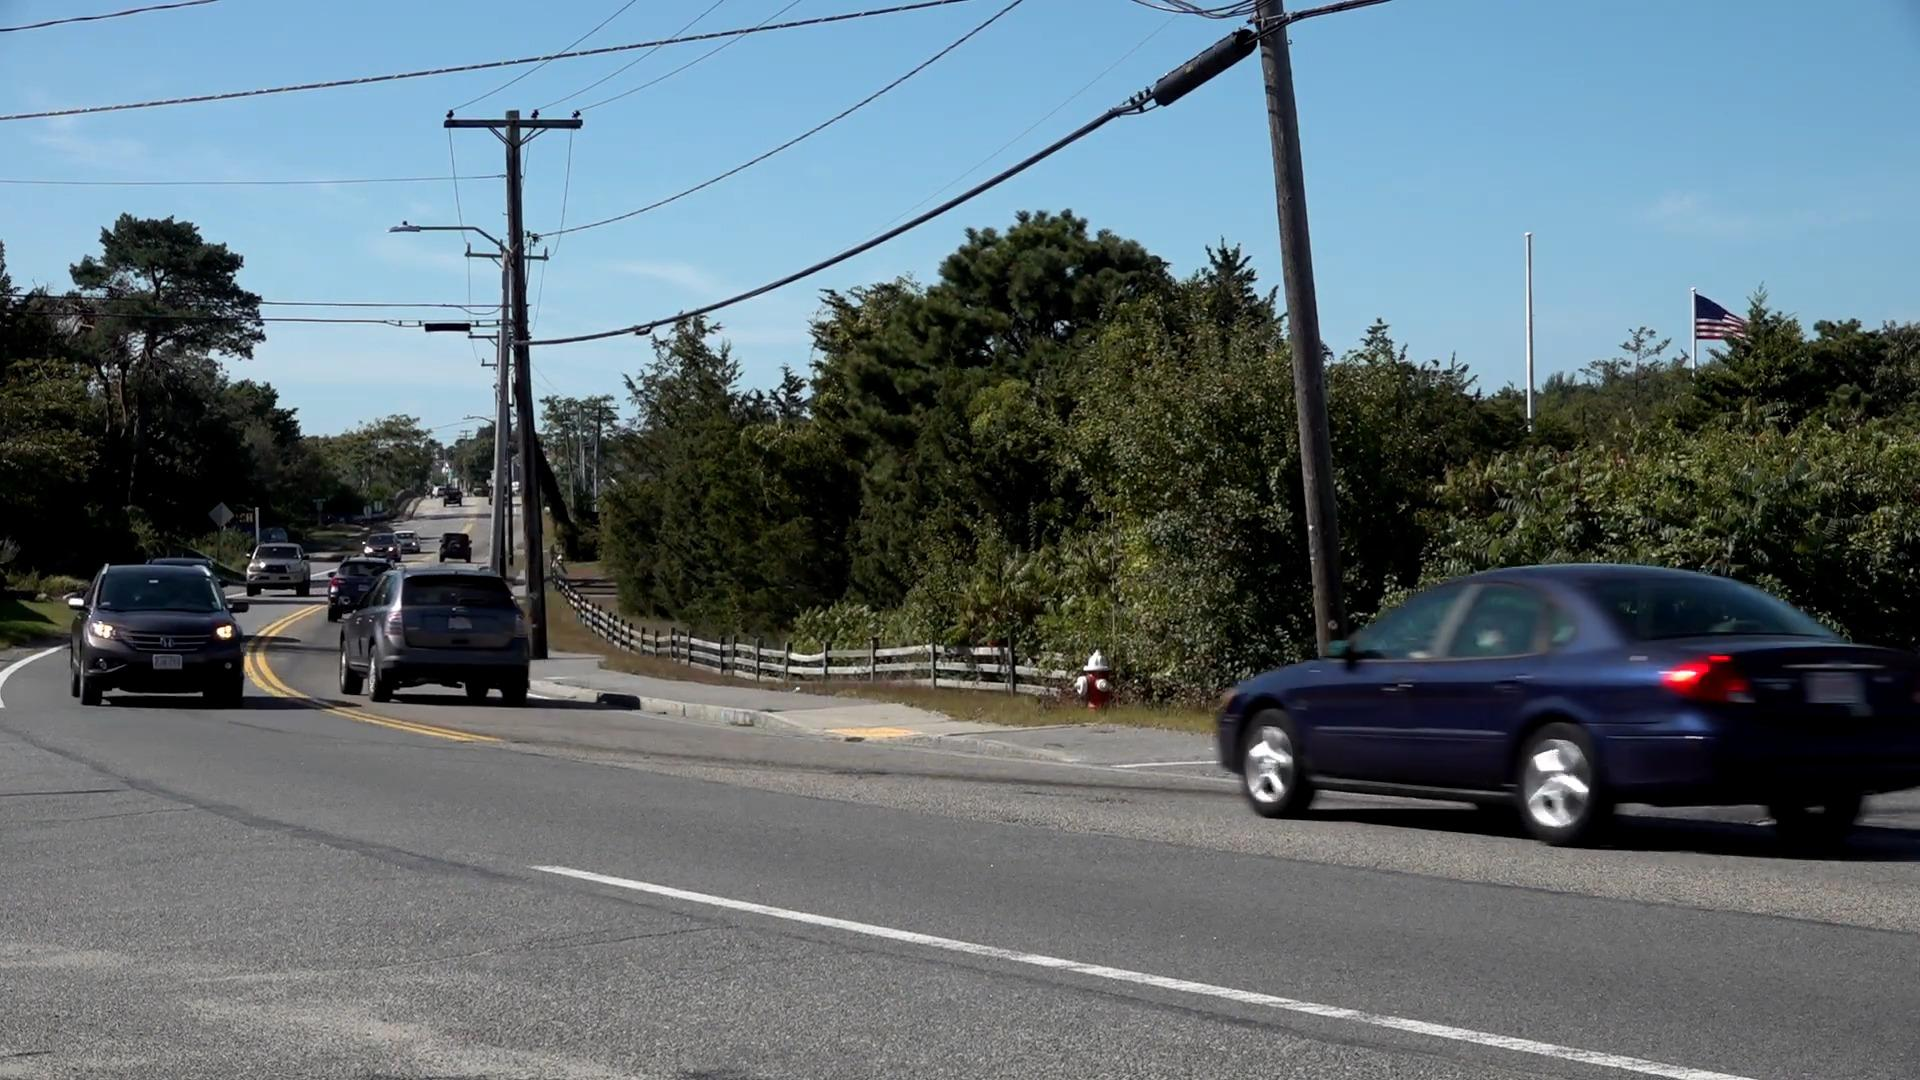sedans: (1216, 564, 1920, 846)
suv: (344, 568, 531, 709), (74, 559, 249, 709)
